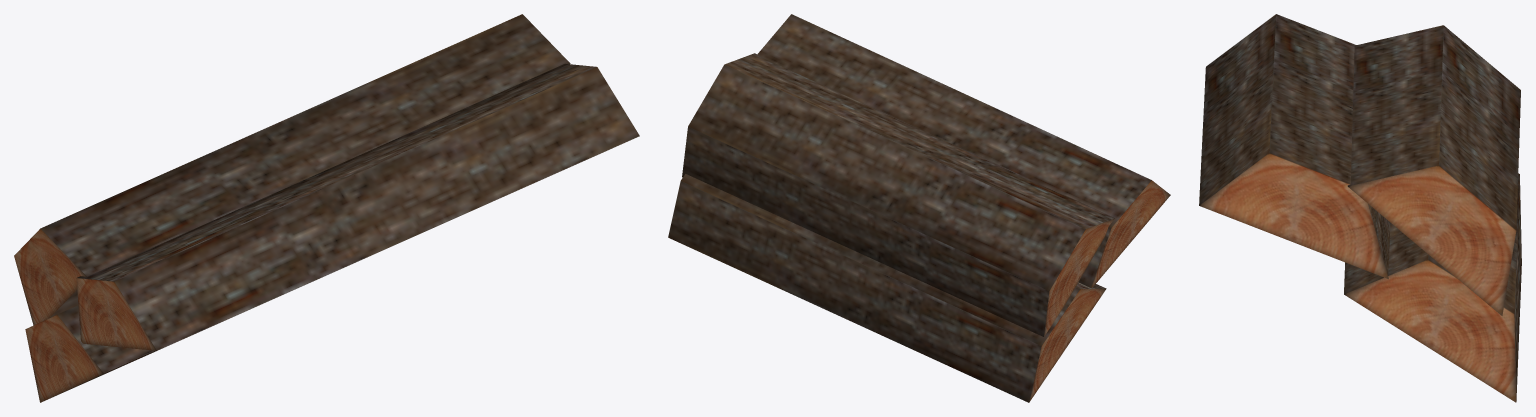
File: wood.gltf
3 renders of one model, left to right at view 1: azimuth 30°, elevation 25°; view 2: azimuth 150°, elevation 25°; view 3: azimuth 270°, elevation 25°, orthographic. The views are drawn at different scales.
Visible parts, largest first — view 1: Cylinder03; view 2: Cylinder03; view 3: Cylinder03.
Boxes of the visible parts, bbox=[...] form: Cylinder03: bbox=[14, 14, 639, 402]; Cylinder03: bbox=[668, 14, 1170, 402]; Cylinder03: bbox=[1199, 14, 1521, 402].
Size of the model in its own units: 42.32 by 24.61 by 21.76.
1 material, 1 textured.
